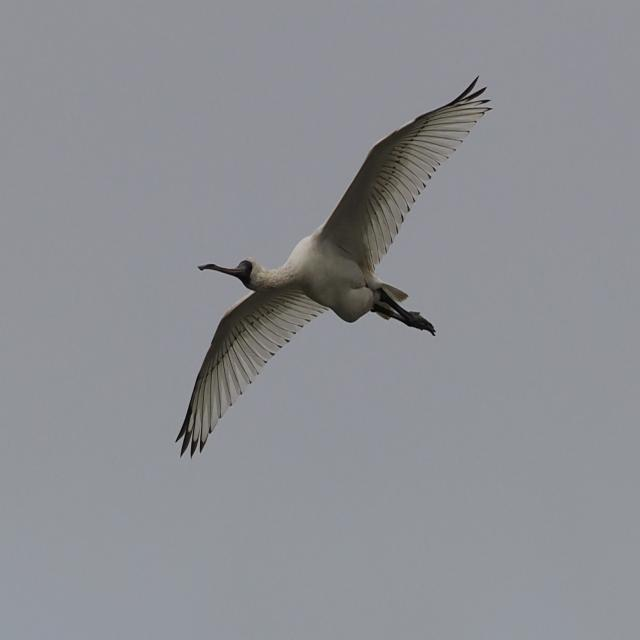Black-faced spoonbill: (177, 78, 489, 455)
